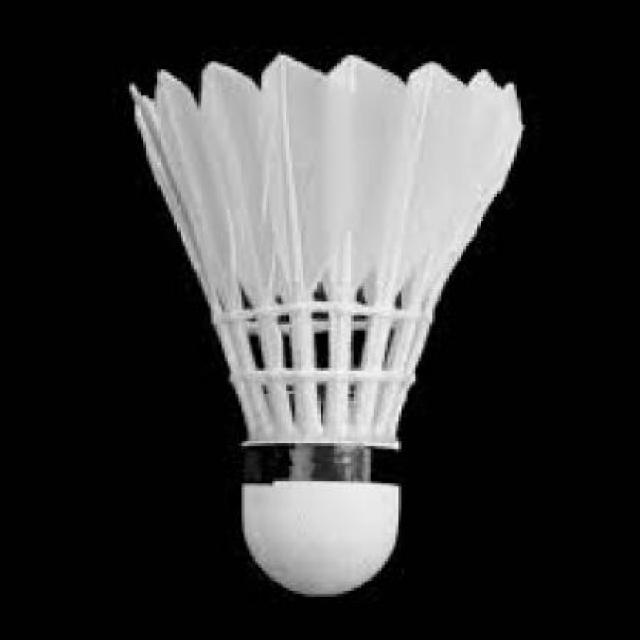Shuttlecock: (123, 45, 528, 600)
